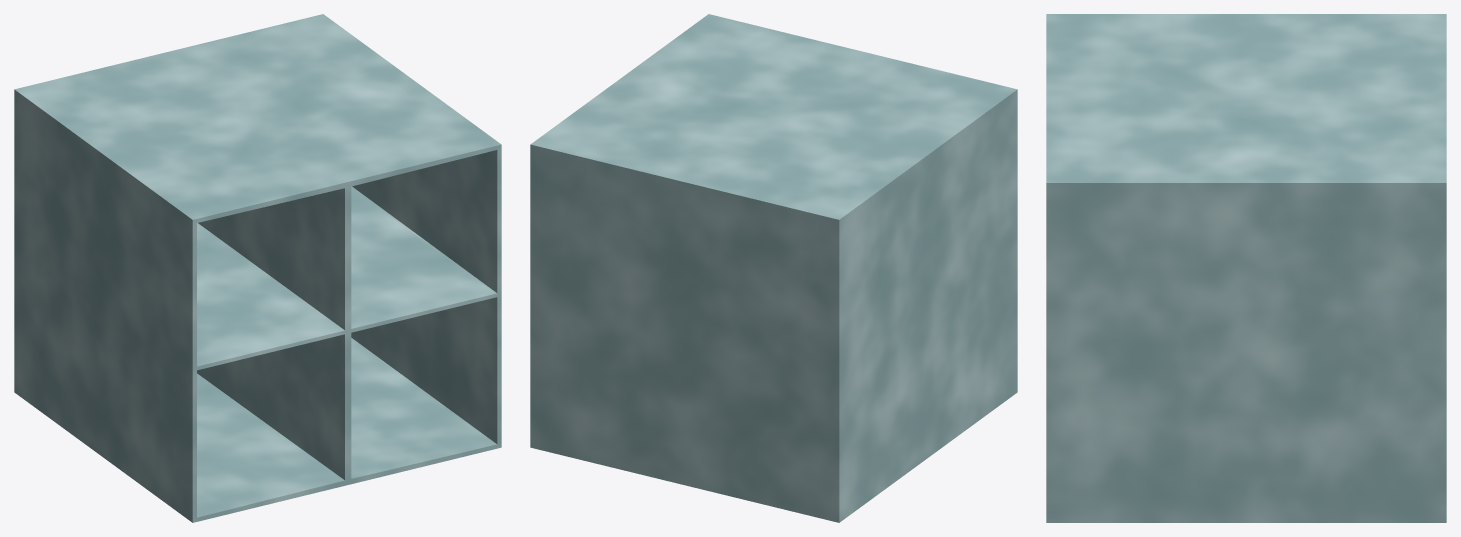
File: top_shelf.fbx
The picture shows the model from 3 angles, left to right: view 1: azimuth 30°, elevation 25°; view 2: azimuth 150°, elevation 25°; view 3: azimuth 270°, elevation 25°; orthographic projection. The views are drawn at different scales.
Visible parts, largest first — view 1: top_shelf_Baked; view 2: top_shelf_Baked; view 3: top_shelf_Baked.
Boxes of the visible parts, bbox=[...] form: top_shelf_Baked: bbox=[14, 14, 501, 522]; top_shelf_Baked: bbox=[530, 14, 1017, 522]; top_shelf_Baked: bbox=[1046, 14, 1446, 522].
Bounding box in the file's own units: 80 × 75 × 80.
